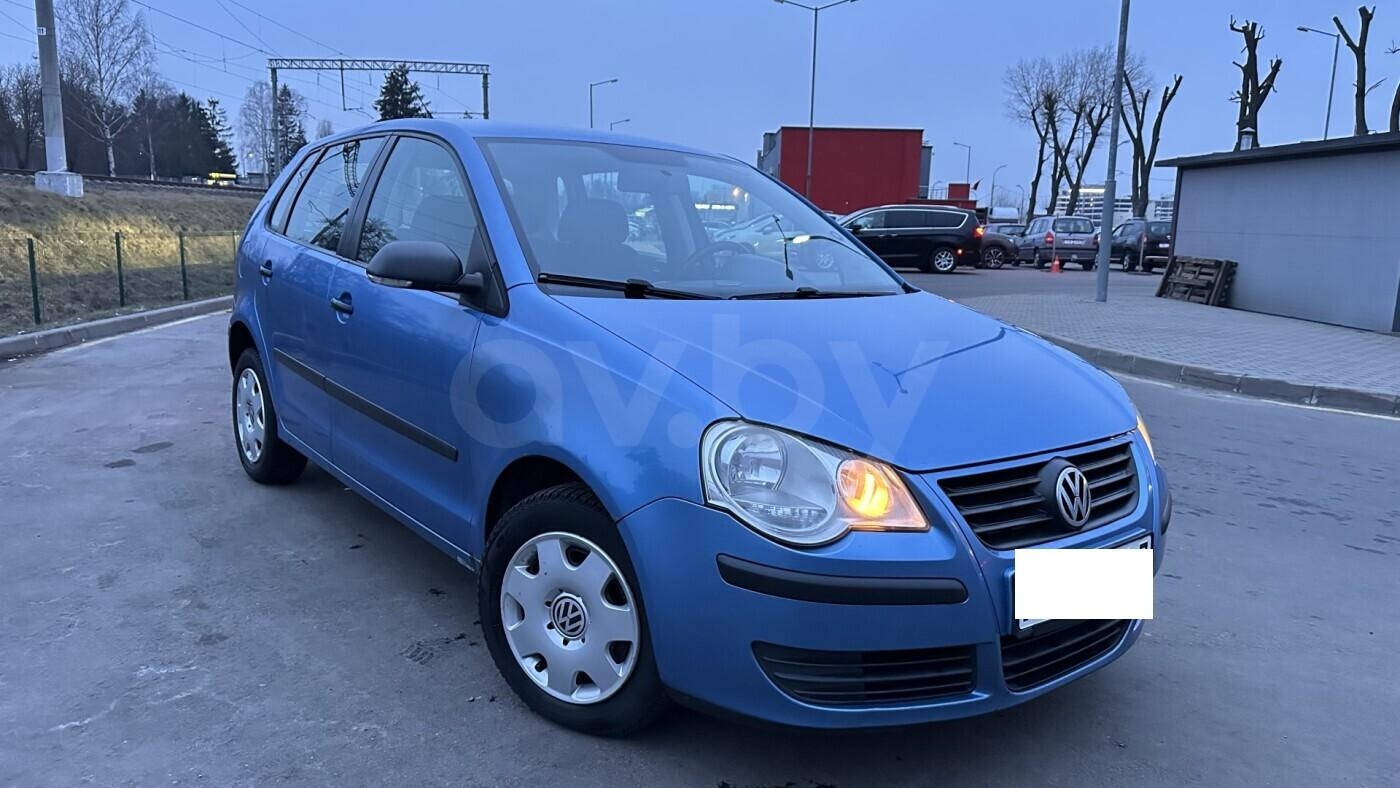Polo_2005-2009: (219, 109, 1190, 735)
